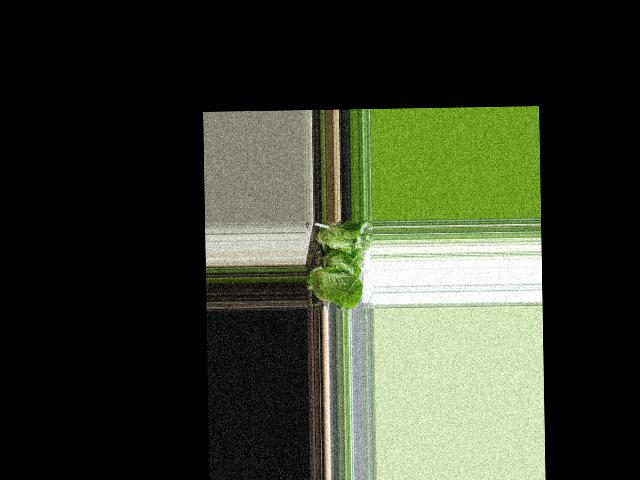lettuce: (310, 223, 367, 254)
